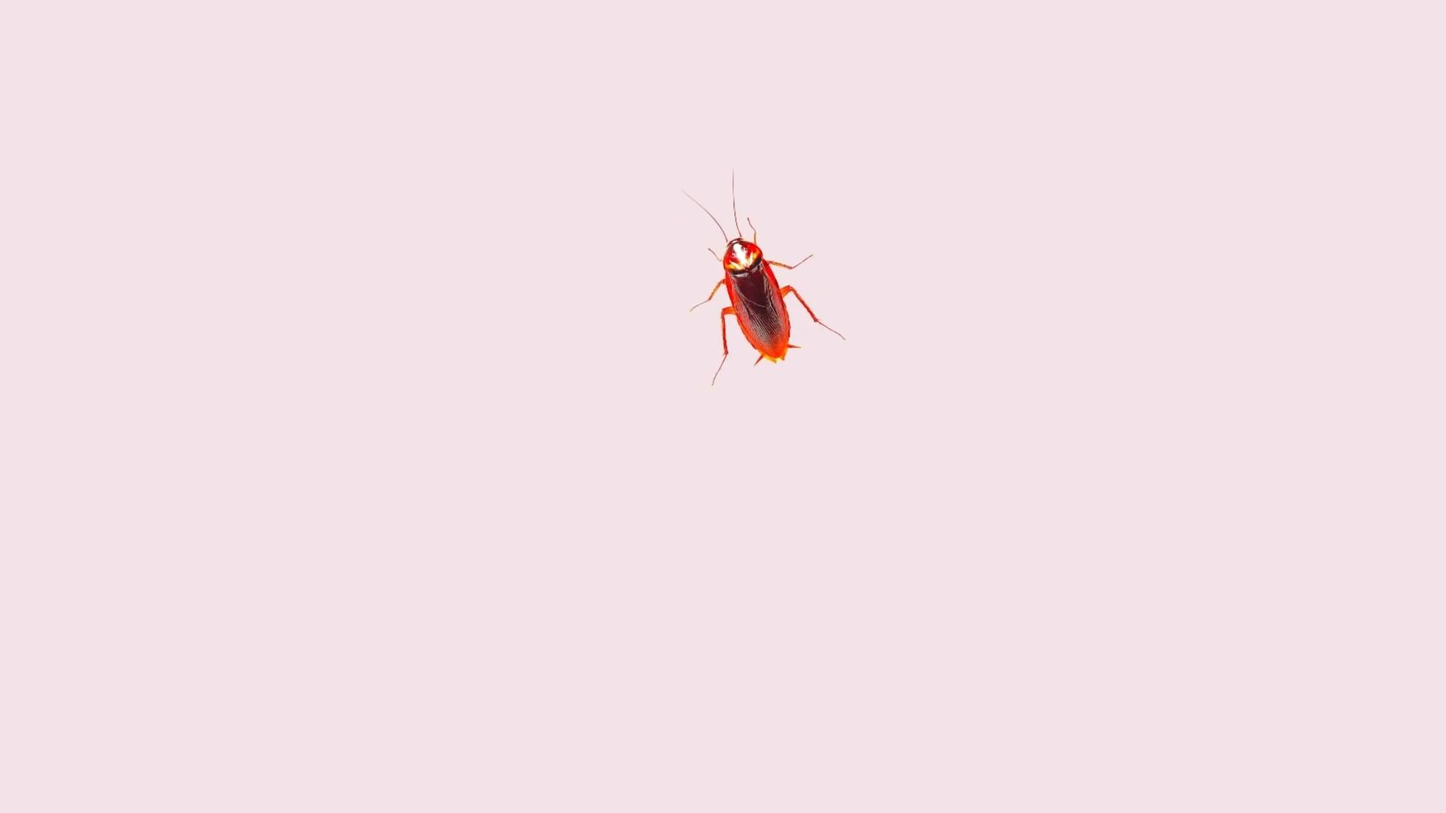cockroach: (666, 161, 836, 394)
